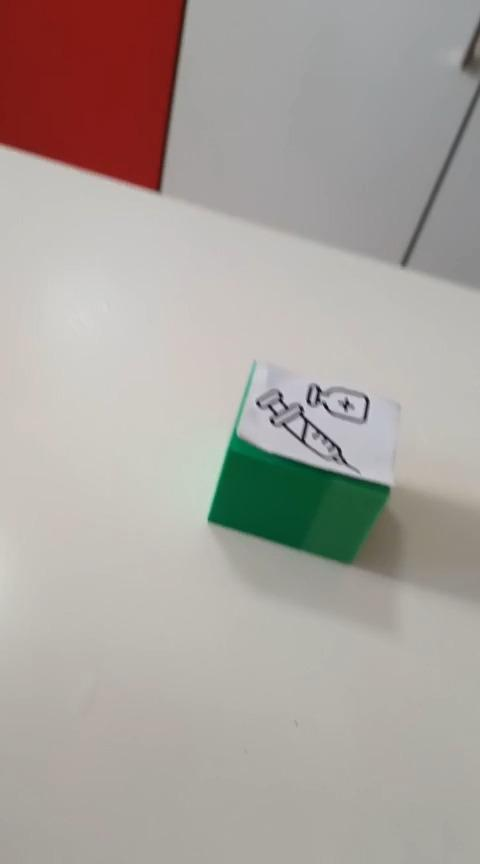antiseptic cream: (205, 357, 402, 565)
